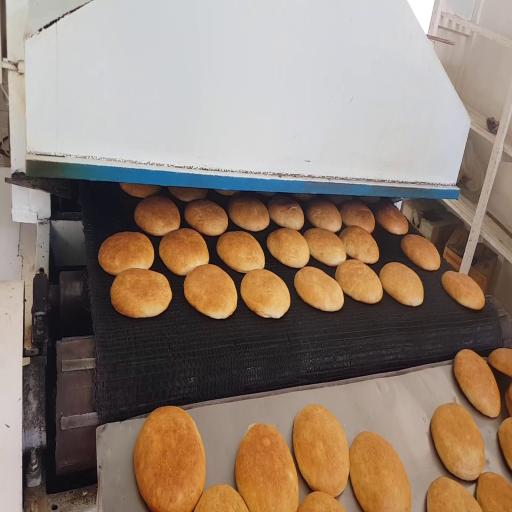bread: (134, 407, 205, 511), (235, 424, 298, 511), (293, 404, 349, 497), (350, 432, 411, 511), (431, 403, 484, 480), (454, 349, 501, 417), (111, 269, 171, 318), (184, 265, 237, 319), (98, 232, 154, 275), (241, 270, 290, 318), (159, 229, 209, 275), (294, 267, 343, 311), (335, 260, 382, 303), (217, 231, 265, 272), (379, 262, 423, 306), (135, 195, 180, 236), (427, 477, 481, 511), (267, 228, 309, 268), (442, 271, 485, 310), (304, 228, 346, 266), (185, 200, 227, 236), (340, 226, 379, 264), (228, 195, 269, 231), (401, 235, 440, 270), (195, 485, 247, 511), (477, 473, 511, 511), (267, 195, 304, 229), (307, 199, 341, 232), (340, 202, 375, 233), (376, 203, 408, 235), (298, 492, 345, 511), (498, 418, 511, 468), (488, 348, 511, 376), (120, 183, 161, 198), (168, 187, 207, 202), (328, 195, 353, 206), (505, 384, 511, 416), (293, 193, 314, 202), (358, 196, 380, 204), (215, 190, 237, 196), (258, 192, 276, 197)
